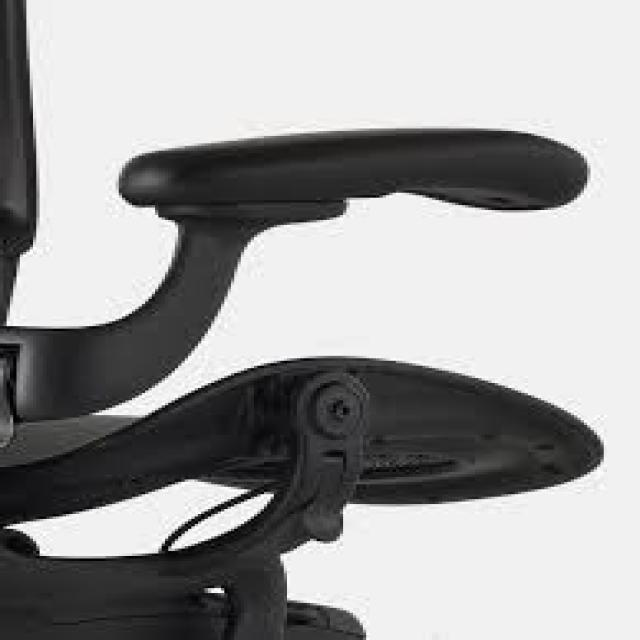chair: (0, 1, 625, 640)
